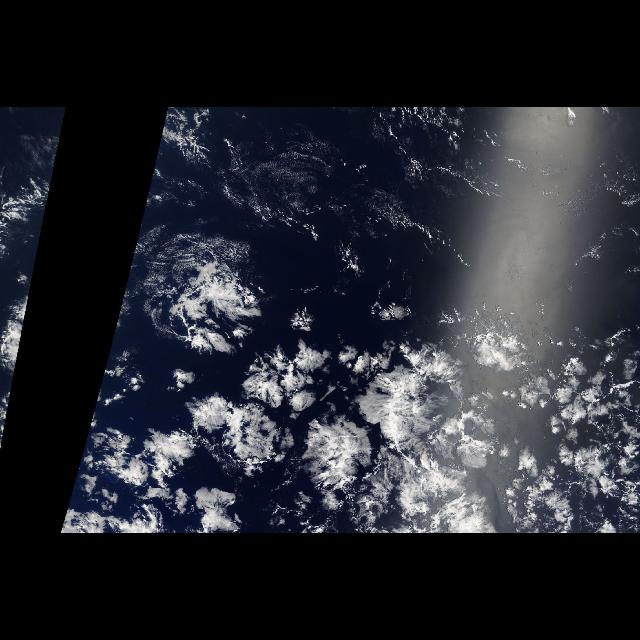Flower: (109, 218, 639, 534)
Sugar: (169, 112, 639, 314)
